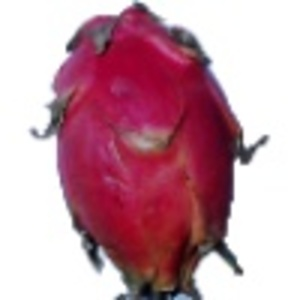pitaia: (29, 1, 268, 300)
